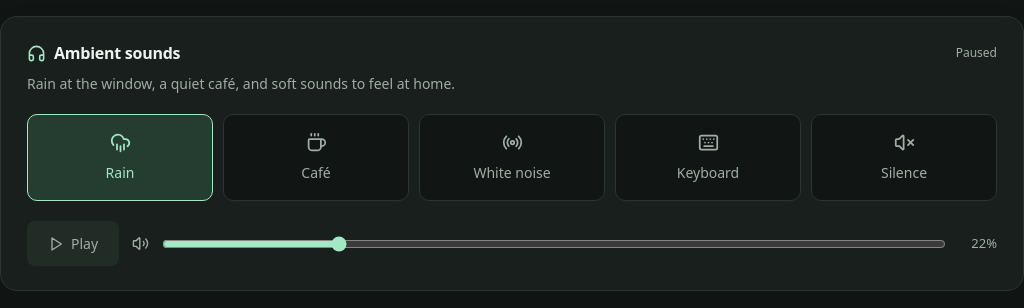
it: restores preferences without autoplay and saves volume and sound selection
Click the button with aria-label "Play ambient sound" at [73, 244], box [27,221,119,266]
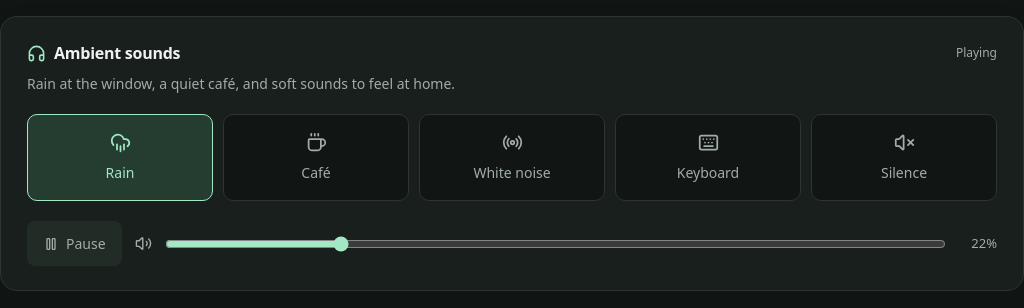
Set the slider named "Ambient volume" to "60" at [632, 244], box [165,230,946,258]
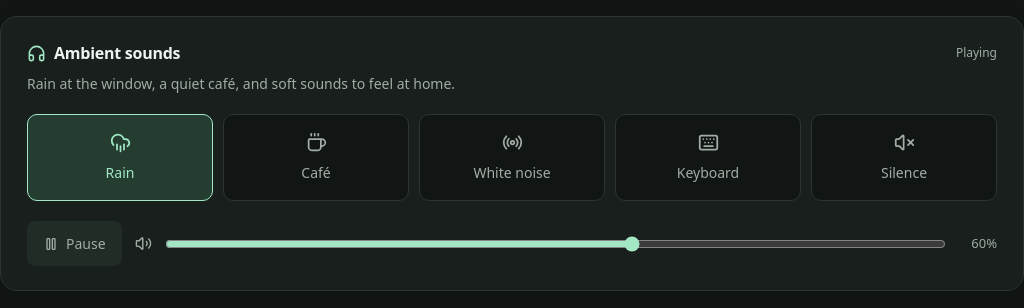
Click the button "Café" at [316, 158], box [223,114,409,201]
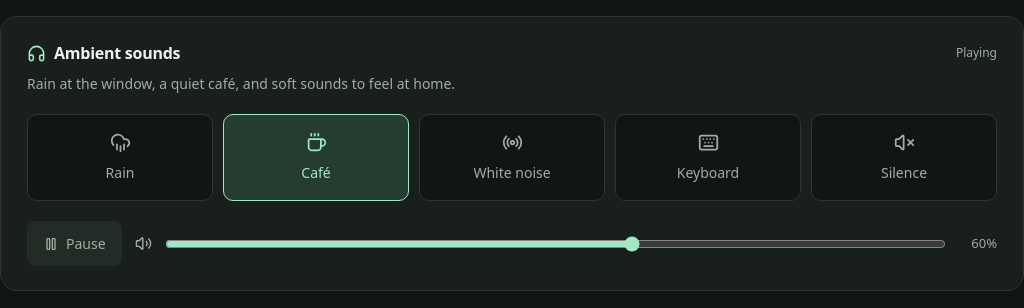
Click the button "Silence" at [904, 158], box [811,114,997,201]
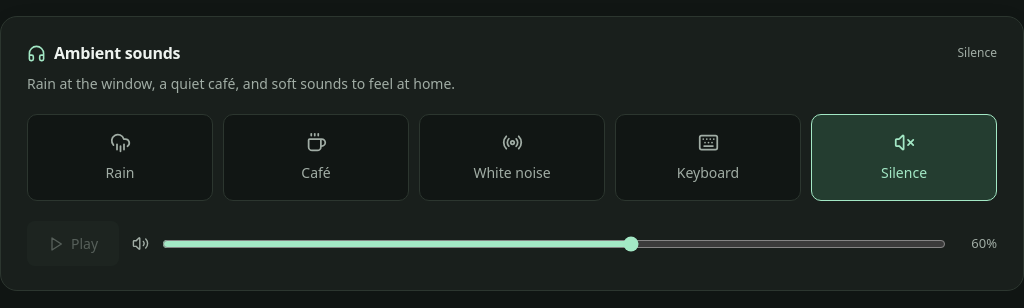
Now the button with aria-label "Play ambient sound" is disabled, box [27,221,119,266]
